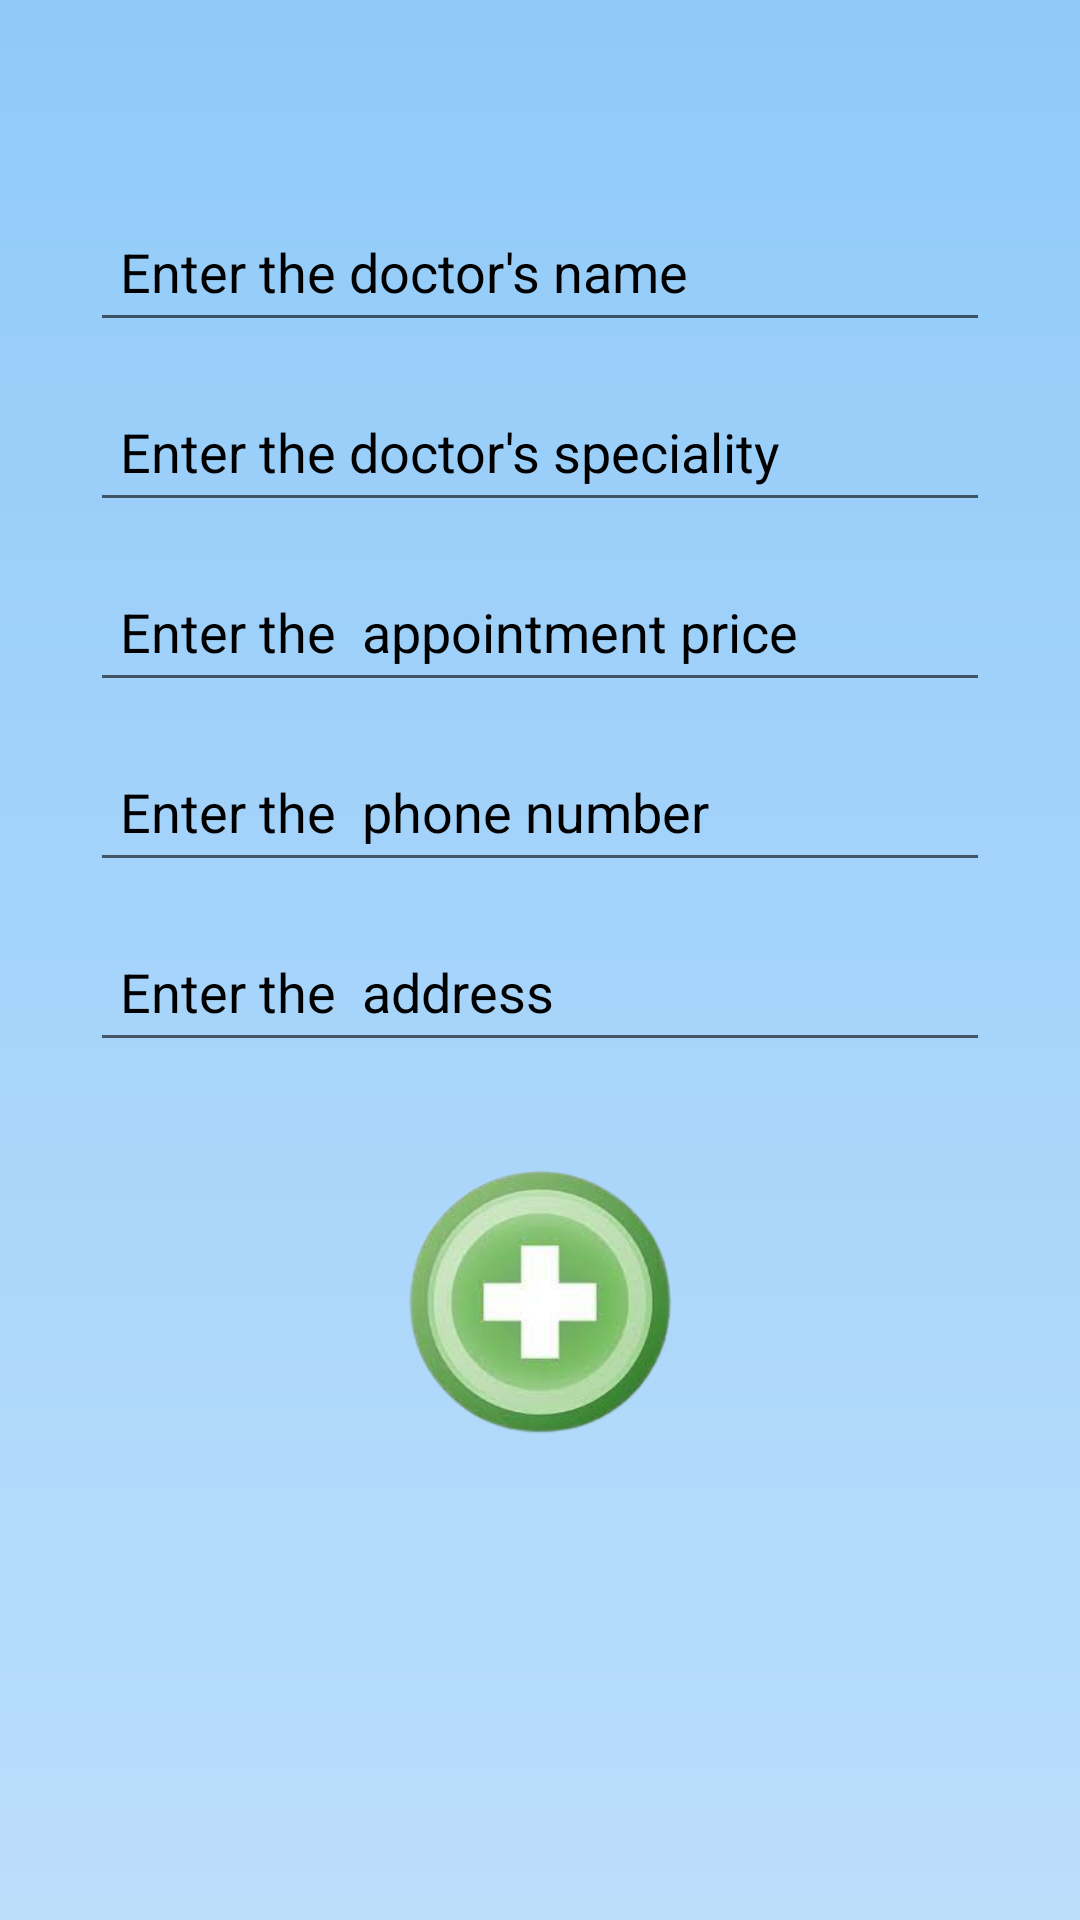

Icons on this 1080 × 1920 Android screen, each with the point to tap as point (x, y):
add: point (540, 1302)
